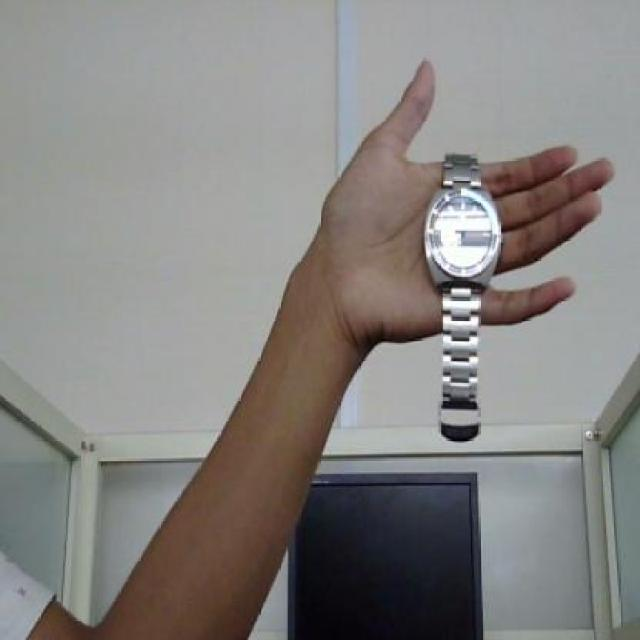Metal: (423, 150, 506, 441)
